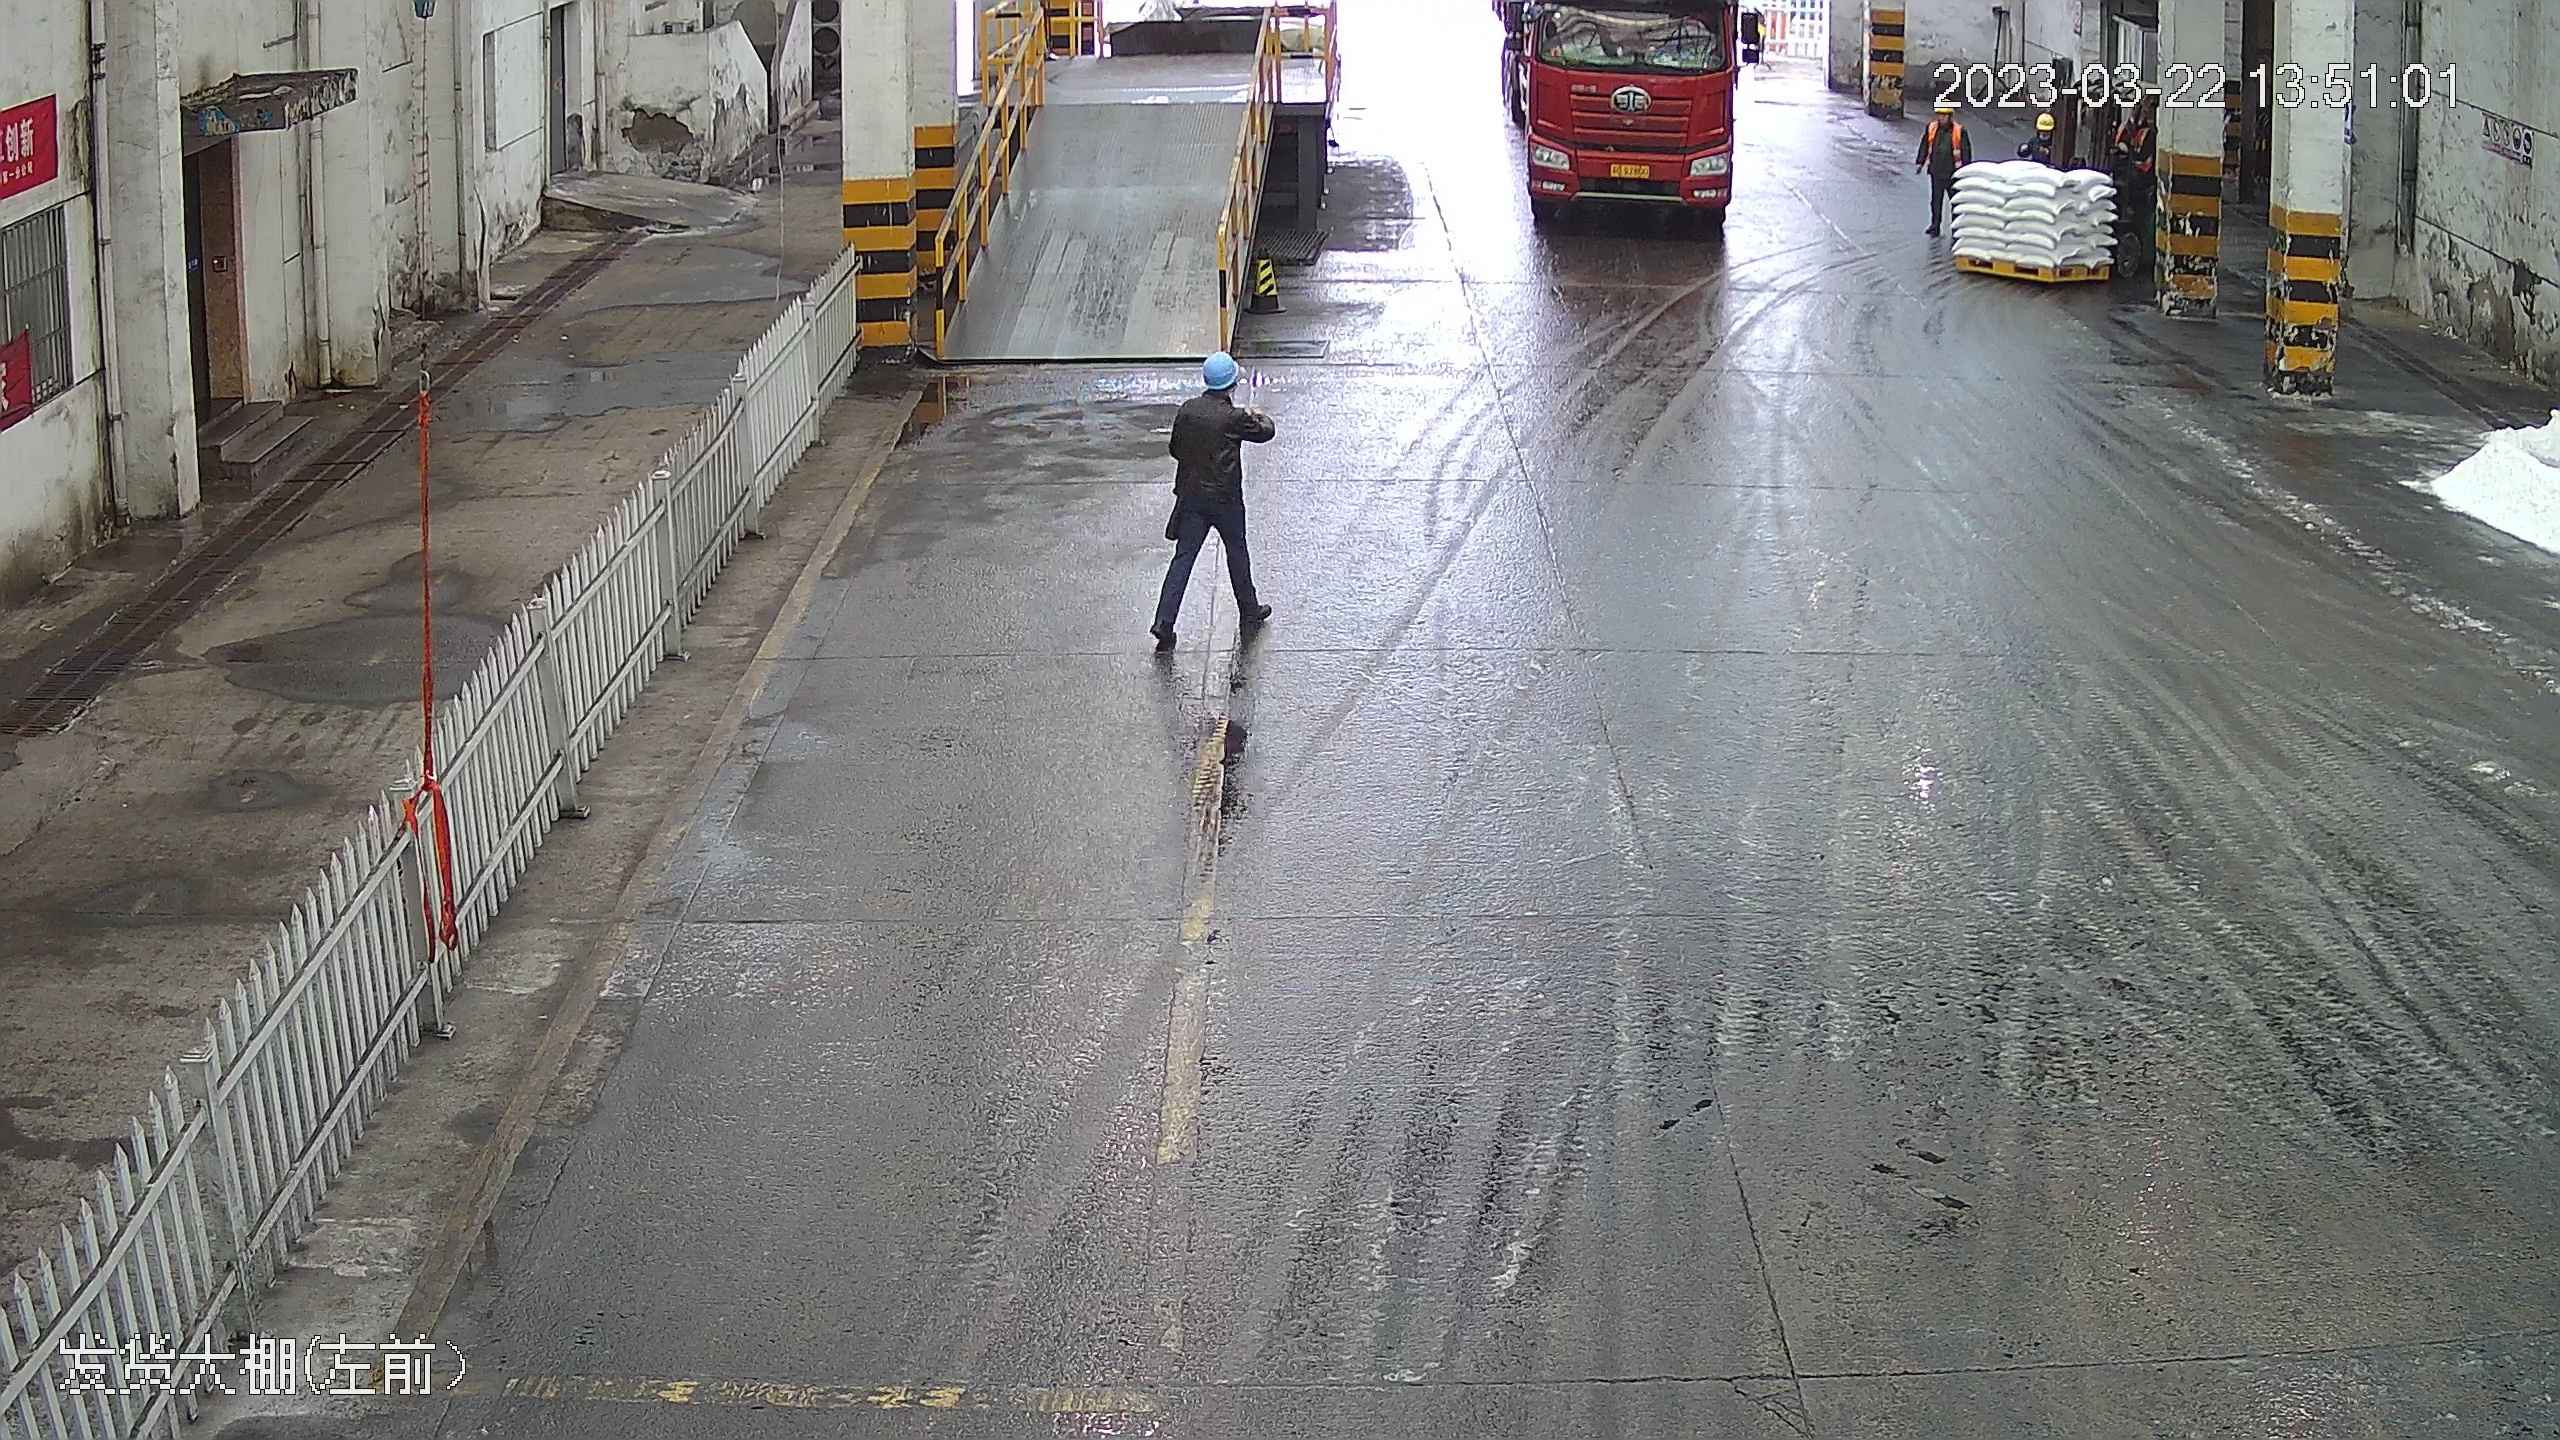head: (1177, 350, 1262, 443), (1928, 104, 1962, 145)
helmet: (1200, 352, 1245, 389), (2033, 112, 2055, 131), (1932, 105, 1955, 114)
people: (1155, 350, 1274, 658), (1921, 102, 1961, 237)
truck: (1499, 1, 1760, 215)
